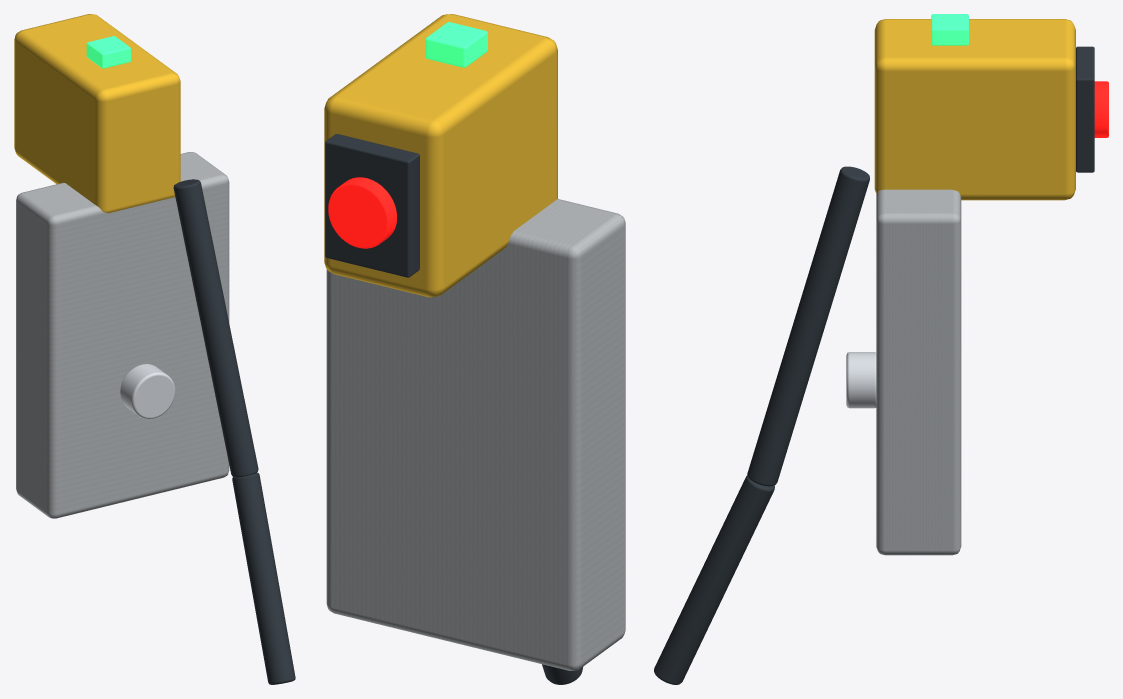
File: CellSensor.gltf
3 renders of one model, left to right at view 1: azimuth 30°, elevation 25°; view 2: azimuth 150°, elevation 25°; view 3: azimuth 270°, elevation 25°, orthographic. The views are drawn at different scales.
Parts seen in each view (by area): view 1: Mount bracket, Photoelectric sensor, Sensor cable (×2), Hex fastener, Indicator; view 2: Mount bracket, Photoelectric sensor, Optical window, Lens, Indicator, Sensor cable; view 3: Photoelectric sensor, Mount bracket, Sensor cable (×2), Optical window, Hex fastener, Indicator, Lens.
Part boxes in pixels (left/top/right/bottom): Mount bracket: left=16, top=152, right=229, bottom=518; Photoelectric sensor: left=14, top=14, right=180, bottom=213; Sensor cable (×2): left=173, top=179, right=295, bottom=684; Hex fastener: left=120, top=364, right=175, bottom=418; Indicator: left=86, top=36, right=130, bottom=68; Mount bracket: left=326, top=199, right=625, bottom=670; Photoelectric sensor: left=324, top=14, right=557, bottom=297; Optical window: left=325, top=134, right=419, bottom=277; Lens: left=328, top=177, right=396, bottom=248; Indicator: left=425, top=22, right=487, bottom=67; Sensor cable: left=542, top=664, right=582, bottom=684; Photoelectric sensor: left=874, top=19, right=1075, bottom=200; Mount bracket: left=876, top=189, right=961, bottom=555; Sensor cable (×2): left=654, top=166, right=869, bottom=684; Optical window: left=1076, top=46, right=1094, bottom=172; Hex fastener: left=846, top=352, right=876, bottom=408; Indicator: left=931, top=14, right=968, bottom=45; Lens: left=1094, top=81, right=1108, bottom=137.
Size of the model in its own units: 0.075 by 0.2226 by 0.1447.
Materials: 6 (1 with a texture image).
